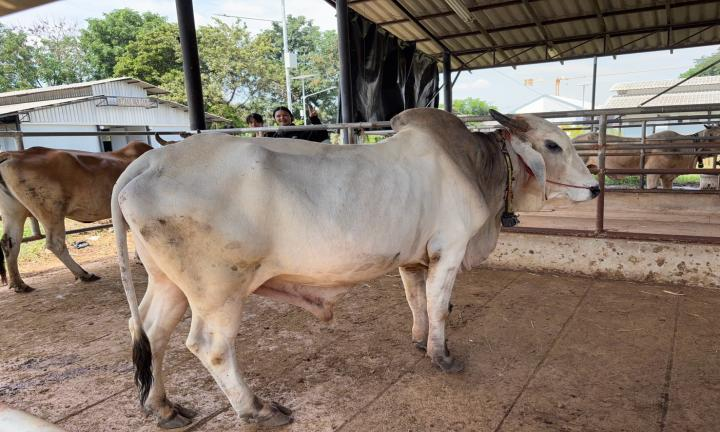Brahman: (111, 108, 599, 427)
